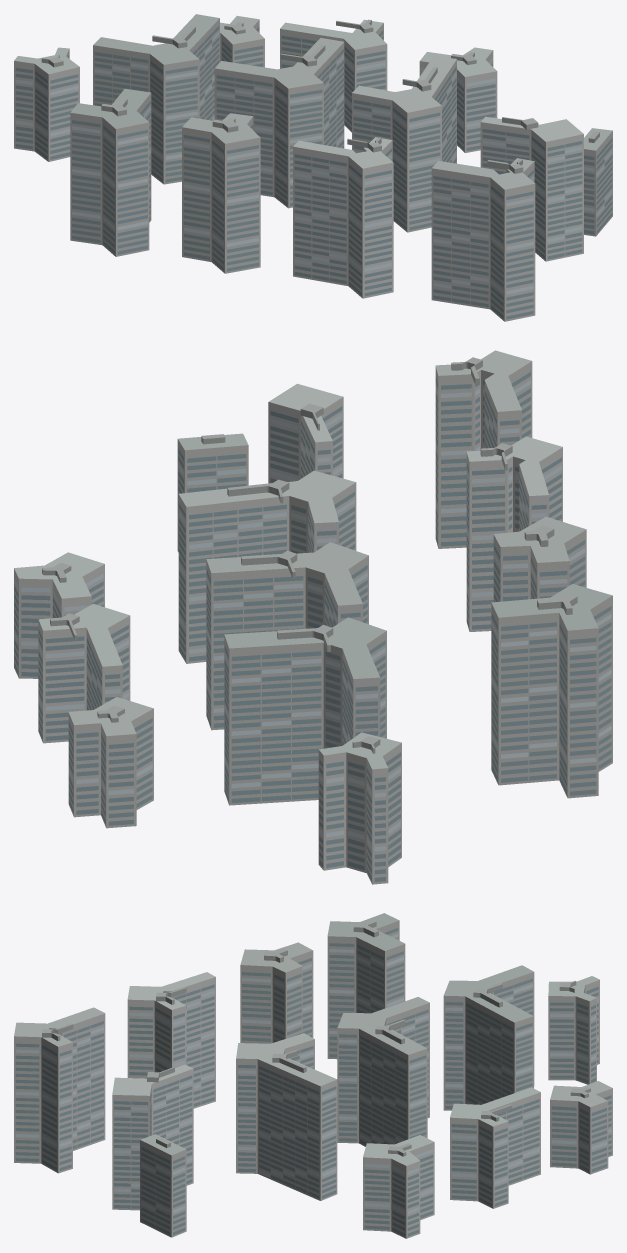
Rendered from apt-a10027118.glb.
The picture shows the model from 3 angles, top to bottom: view 1: azimuth 30°, elevation 25°; view 2: azimuth 150°, elevation 25°; view 3: azimuth 270°, elevation 25°; orthographic projection. The views are drawn at different scales.
Parts seen in each view (by area): view 1: apt-a10027118; view 2: apt-a10027118; view 3: apt-a10027118.
Boxes of the visible parts, <box> form: apt-a10027118: <box>14,14,612,321</box>; apt-a10027118: <box>14,350,612,884</box>; apt-a10027118: <box>14,913,612,1238</box>.
Bounding box in the file's own units: 223 × 67 × 277.
